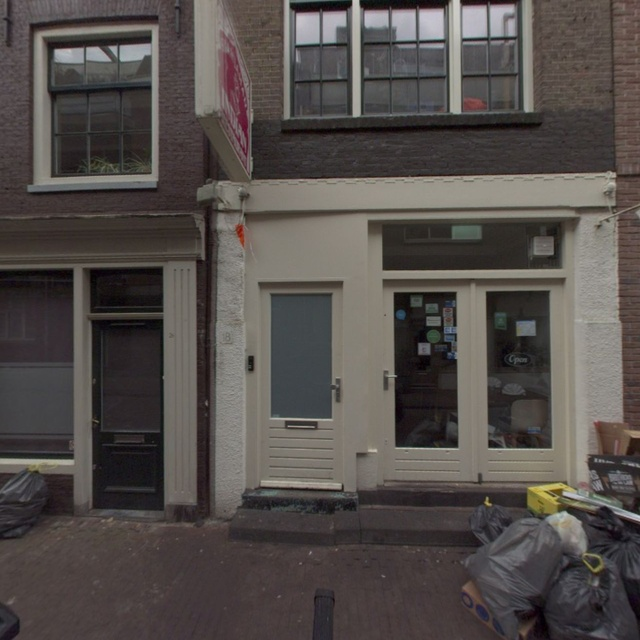Bulky Waste: (471, 479, 640, 639)
Litter: (0, 468, 47, 539)
